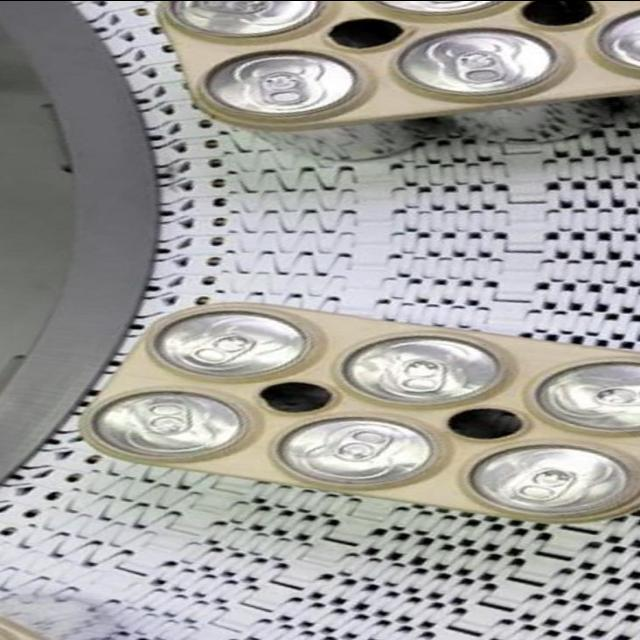bottle: (76, 300, 638, 526), (154, 1, 638, 133)
